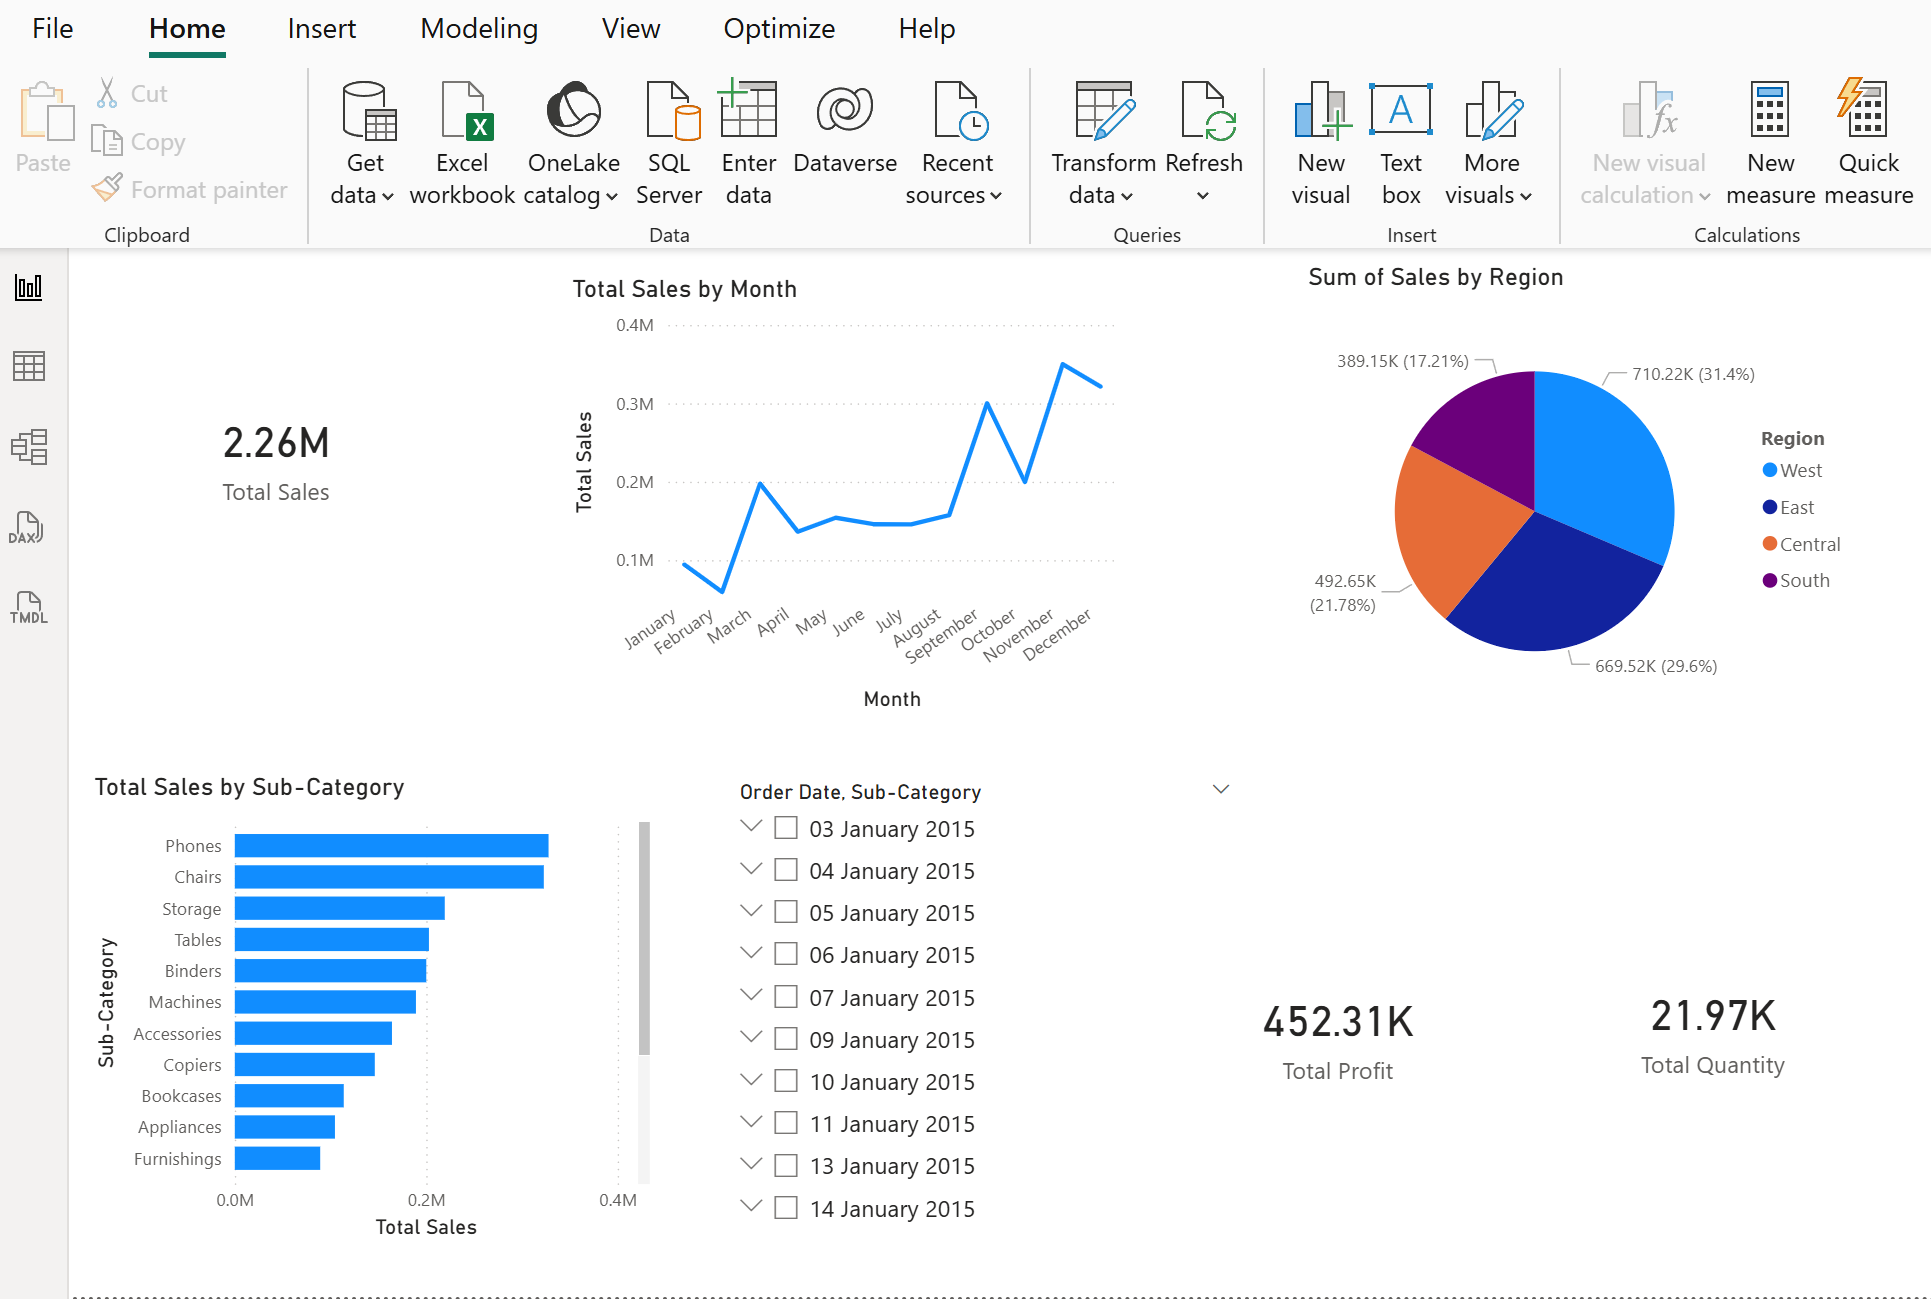

This screenshot's page, from the dashboard's own definition file:
{"tool":"powerbi","page":{"name":"Page 1","canvas":[1280,720],"ordinal":0},"visuals":[{"type":"card","fields":{"Values":["Sales Dashboard.Total Sales"]},"box":[12.4,17.9,259.6,248.6],"z":0},{"type":"clusteredBarChart","fields":{"Category":["Sales Dashboard.Sub-Category"],"Y":["Sales Dashboard.Total Sales"]},"box":[12.4,359.8,391.4,325.5],"z":1},{"type":"lineChart","fields":{"Category":["Sales Dashboard.Order Date.Variation.Date Hierarchy.Month"],"Y":["Sales Dashboard.Total Sales"]},"box":[340.6,17.9,383.2,304.9],"z":2},{"type":"pieChart","fields":{"Category":["Sales Dashboard.Region"],"Y":["Sum(Sales Dashboard.Sales)"]},"box":[846,9.6,385.9,321.4],"z":3},{"type":"slicer","fields":{"Values":["Sales Dashboard.Order Date","Sales Dashboard.Sub-Category"]},"box":[447.7,359.8,362.6,315.9],"z":4},{"type":"card","fields":{"Values":["Sales Dashboard.Total Profit"]},"box":[743,381.8,256.8,315.9],"z":5},{"type":"card","fields":{"Values":["Sales Dashboard.Total Quantity"]},"box":[988.8,395.5,280.2,280.2],"z":6}]}

Visuals, with their boxes on the page's 1280x720 design canvas (x1, y1, x2, y2). These are canvas units, not pixel positions in the 1931x1299 screenshot, which may show the page scaled, cropped or inside an application window:
card - Sales Dashboard.Total Sales: left=12, top=18, right=272, bottom=266
clusteredBarChart - Sales Dashboard.Sub-Category x Sales Dashboard.Total Sales: left=12, top=360, right=404, bottom=685
lineChart - Sales Dashboard.Order Date.Variation.Date Hierarchy.Month x Sales Dashboard.Total Sales: left=341, top=18, right=724, bottom=323
pieChart - Sales Dashboard.Region x Sum(Sales Dashboard.Sales): left=846, top=10, right=1232, bottom=331
slicer - Sales Dashboard.Order Date x Sales Dashboard.Sub-Category: left=448, top=360, right=810, bottom=676
card - Sales Dashboard.Total Profit: left=743, top=382, right=1000, bottom=698
card - Sales Dashboard.Total Quantity: left=989, top=396, right=1269, bottom=676
